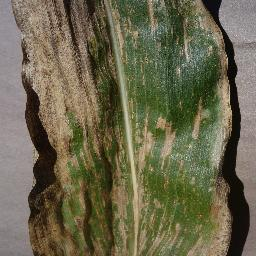Gray_Leaf_Spot: (10, 0, 244, 253)
